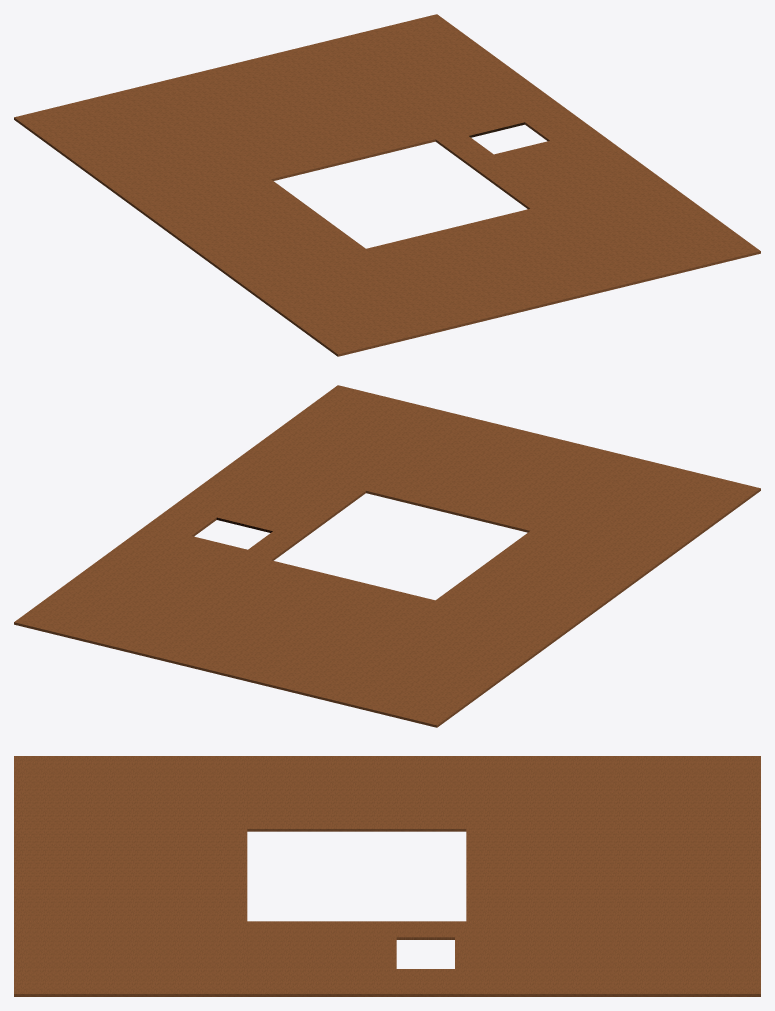
The model's file is SegundoPiso.fbx.
3 renders of one model, top to bottom at view 1: azimuth 30°, elevation 25°; view 2: azimuth 150°, elevation 25°; view 3: azimuth 270°, elevation 25°, orthographic. The views are drawn at different scales.
Visible parts, largest first — view 1: SegundoPiso; view 2: SegundoPiso; view 3: SegundoPiso.
Boxes of the visible parts, <box> form: SegundoPiso: <box>14,14,760,356</box>; SegundoPiso: <box>14,385,760,727</box>; SegundoPiso: <box>14,756,760,996</box>.
Size of what is drawn, in the model's own units: 4880 by 3680 by 20.
